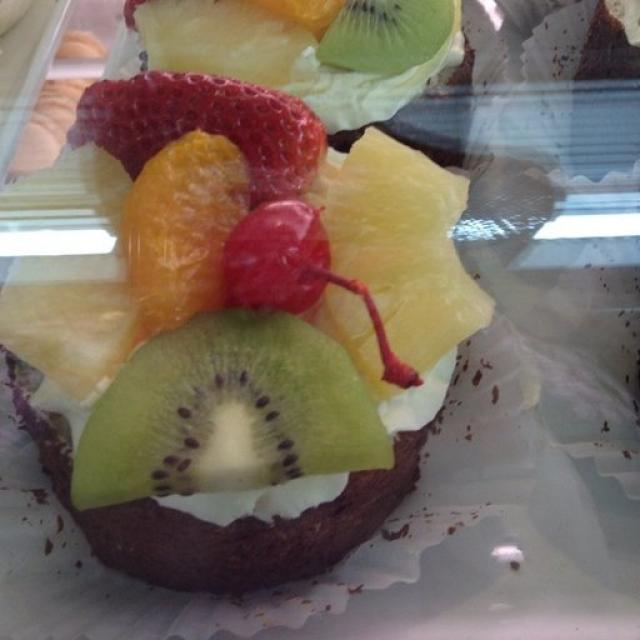Food -Biodegradable-: (0, 0, 501, 509)
